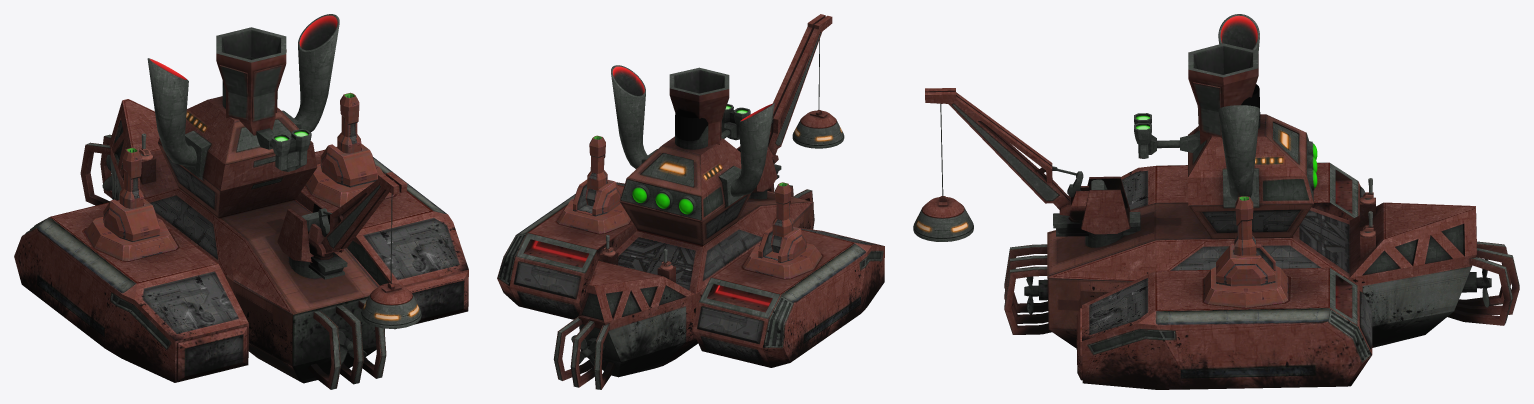
Rendered from sarumarine.glb.
The picture shows the model from 3 angles, left to right: view 1: azimuth 30°, elevation 25°; view 2: azimuth 150°, elevation 25°; view 3: azimuth 270°, elevation 25°; orthographic projection. The views are drawn at different scales.
Visible parts, largest first — view 1: base, turret08, turret09, turret01-arms, crane02, R_pipe, L_pipe, turret04-base, turret03-base, crane01, turret04-arms, turret03-arms (+1 smaller); view 2: base, turret08, turret09, crane02, turret01-arms, R_pipe, L_pipe, turret04-base, turret03-base, turret01-base, turret03-arms, turret04-arms (+2 smaller); view 3: base, turret09, crane02, turret01-arms, turret08, R_pipe, crane01, turret04-base, L_pipe, turret04-arms, rotator.
Boxes of the visible parts, left/top/right/bottom form: base: left=80, top=96, right=386, bottom=389; turret08: left=14, top=200, right=248, bottom=382; turret09: left=295, top=147, right=468, bottom=329; turret01-arms: left=216, top=27, right=311, bottom=171; crane02: left=301, top=172, right=421, bottom=328; R_pipe: left=294, top=14, right=339, bottom=132; L_pipe: left=147, top=58, right=196, bottom=166; turret04-base: left=320, top=143, right=377, bottom=187; turret03-base: left=103, top=199, right=159, bottom=241; crane01: left=277, top=202, right=339, bottom=278; turret04-arms: left=337, top=92, right=361, bottom=153; turret03-arms: left=119, top=147, right=143, bottom=208; base: left=553, top=136, right=814, bottom=389; turret08: left=693, top=227, right=884, bottom=367; turret09: left=497, top=182, right=637, bottom=319; crane02: left=749, top=14, right=844, bottom=198; turret01-arms: left=669, top=67, right=750, bottom=145; R_pipe: left=611, top=65, right=647, bottom=168; L_pipe: left=730, top=103, right=774, bottom=196; turret04-base: left=573, top=179, right=621, bottom=216; turret03-base: left=758, top=226, right=806, bottom=262; turret01-base: left=675, top=113, right=708, bottom=149; turret03-arms: left=771, top=182, right=792, bottom=253; turret04-arms: left=585, top=135, right=607, bottom=206; base: left=1004, top=114, right=1519, bottom=348; turret09: left=1076, top=266, right=1372, bottom=389; crane02: left=913, top=88, right=1140, bottom=241; turret01-arms: left=1134, top=43, right=1258, bottom=158; turret08: left=1120, top=162, right=1365, bottom=220; R_pipe: left=1218, top=105, right=1259, bottom=200; crane01: left=1081, top=176, right=1130, bottom=247; turret04-base: left=1216, top=244, right=1275, bottom=286; L_pipe: left=1218, top=14, right=1259, bottom=53; turret04-arms: left=1233, top=196, right=1257, bottom=255; rotator: left=1024, top=259, right=1491, bottom=314.
Size of the model in its own units: 48.91 by 40.38 by 76.29.
Materials: 3 (3 with a texture image).
